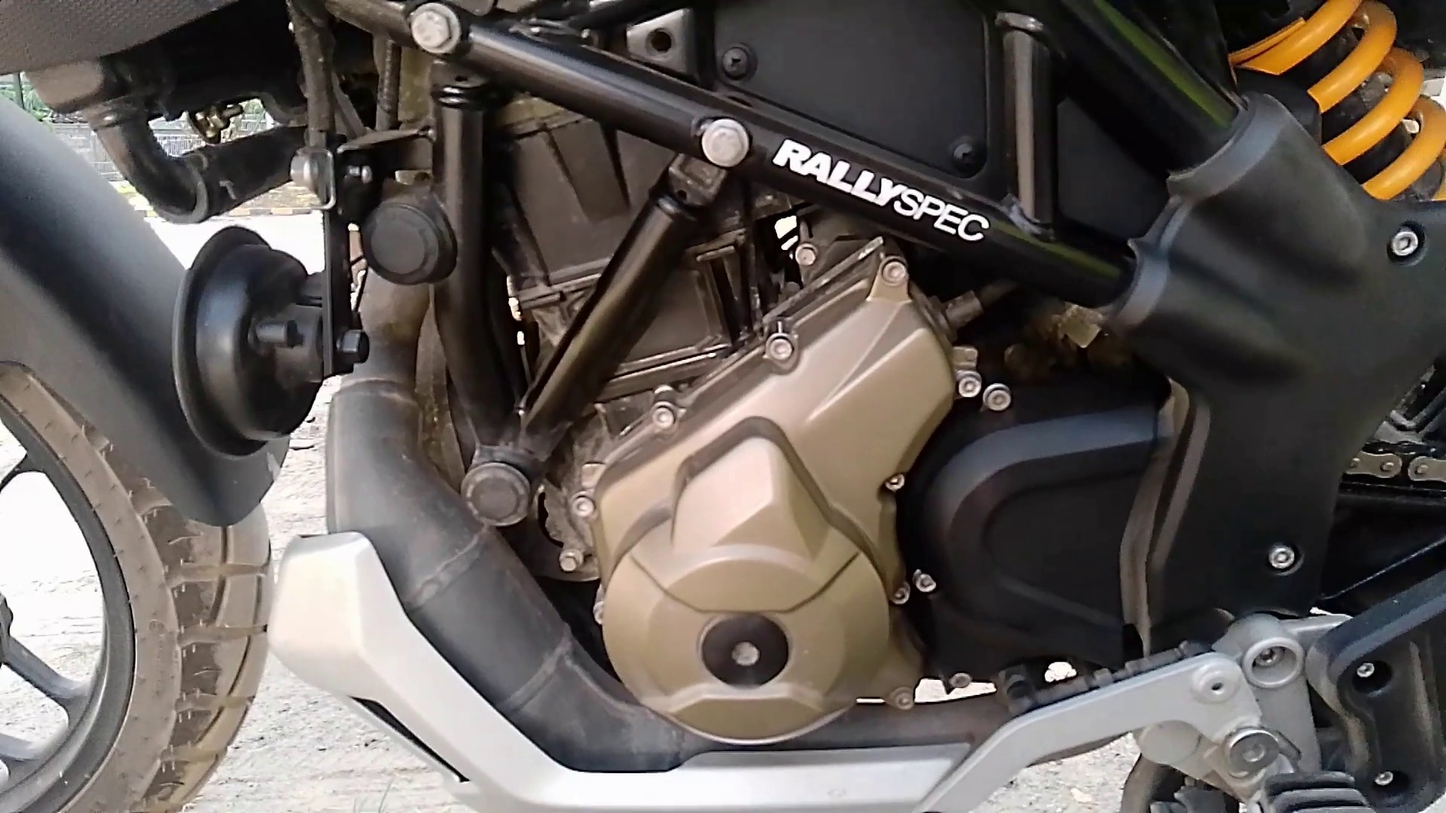engine-casing-left: (585, 266, 962, 739)
